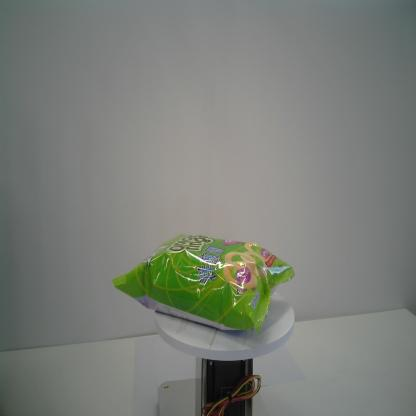Puffed Food: (110, 233, 296, 335)
